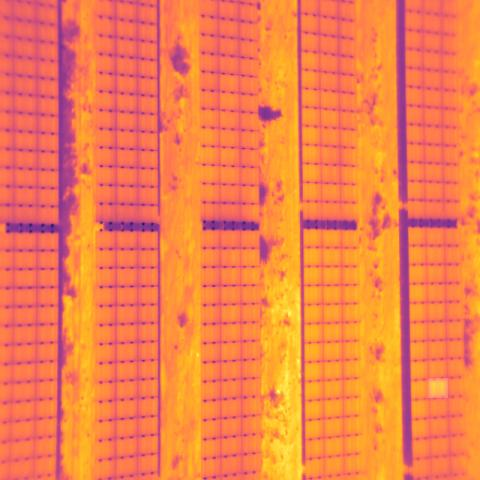fault: (428, 378, 448, 398)
